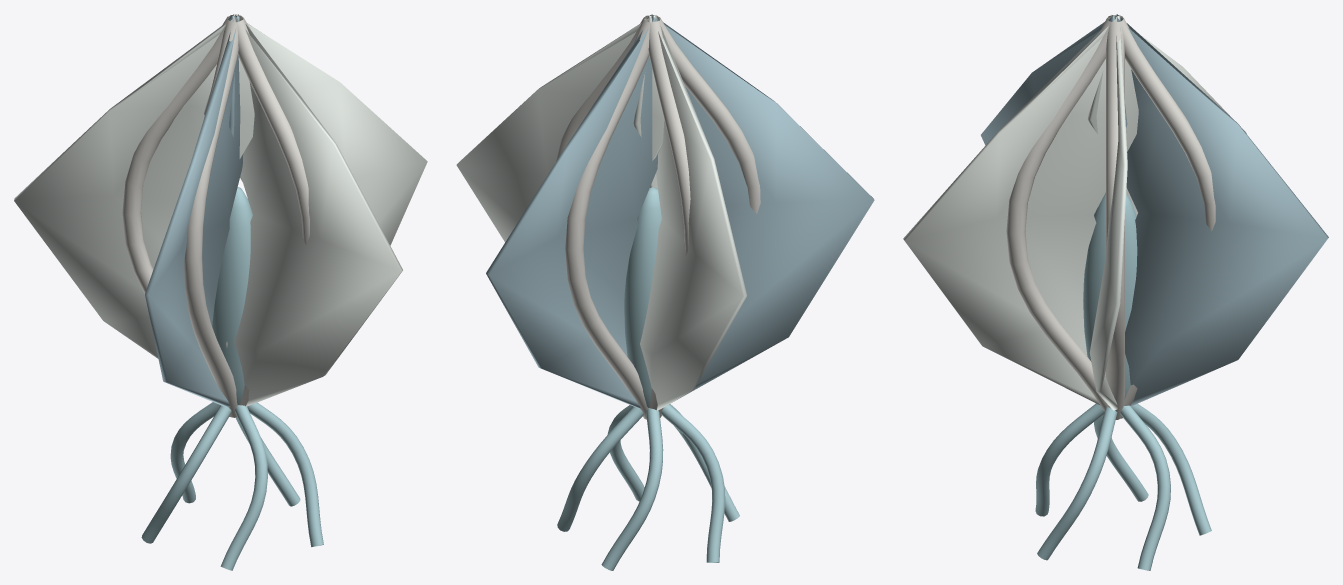
The model's file is bio_lantern_sail_08_near.glb.
3 views of the same model, side by side, from view 1: azimuth 30°, elevation 25°; view 2: azimuth 150°, elevation 25°; view 3: azimuth 270°, elevation 25° (orthographic).
Parts seen in each view (by area): view 1: Ribbed sensory membrane.004, Ribbed sensory membrane.002, Ribbed sensory membrane.003, Ribbed sensory membrane, Membrane leading seam.003, Membrane leading seam.002, Buoyancy spindle, Membrane leading seam.004, Trailing electroreceptor.003, Trailing electroreceptor.004, Trailing electroreceptor.002, Trailing electroreceptor.001 (+1 smaller); view 2: Ribbed sensory membrane.001, Ribbed sensory membrane.003, Ribbed sensory membrane.002, Ribbed sensory membrane, Membrane leading seam.001, Buoyancy spindle, Membrane leading seam.003, Membrane leading seam.002, Trailing electroreceptor.001, Trailing electroreceptor.002, Trailing electroreceptor, Membrane leading seam (+2 smaller); view 3: Ribbed sensory membrane.001, Ribbed sensory membrane.004, Membrane leading seam.004, Ribbed sensory membrane, Membrane leading seam, Membrane leading seam.001, Buoyancy spindle, Trailing electroreceptor, Ribbed sensory membrane.003, Trailing electroreceptor.004, Trailing electroreceptor.001, Trailing electroreceptor.003 (+2 smaller).
Boxes of the visible parts, <box> form: Ribbed sensory membrane.004: <box>234,14,402,406</box>; Ribbed sensory membrane.002: <box>14,16,254,358</box>; Ribbed sensory membrane.003: <box>145,16,243,407</box>; Ribbed sensory membrane: <box>203,14,427,347</box>; Membrane leading seam.003: <box>184,20,238,417</box>; Membrane leading seam.002: <box>122,16,229,293</box>; Buoyancy spindle: <box>212,187,252,404</box>; Membrane leading seam.004: <box>237,18,309,417</box>; Trailing electroreceptor.003: <box>220,405,267,570</box>; Trailing electroreceptor.004: <box>247,402,323,547</box>; Trailing electroreceptor.002: <box>141,405,231,543</box>; Trailing electroreceptor.001: <box>170,402,220,503</box>; Ribbed sensory membrane.001: <box>486,16,657,408</box>; Ribbed sensory membrane.003: <box>651,14,874,401</box>; Ribbed sensory membrane.002: <box>640,15,746,410</box>; Ribbed sensory membrane: <box>456,16,664,242</box>; Membrane leading seam.001: <box>565,19,650,419</box>; Buoyancy spindle: <box>624,187,661,407</box>; Membrane leading seam.003: <box>657,16,760,417</box>; Membrane leading seam.002: <box>648,21,690,416</box>; Trailing electroreceptor.001: <box>601,408,663,570</box>; Trailing electroreceptor.002: <box>661,404,725,562</box>; Trailing electroreceptor: <box>557,406,643,531</box>; Membrane leading seam: <box>554,15,646,163</box>; Ribbed sensory membrane.001: <box>1116,14,1328,406</box>; Ribbed sensory membrane.004: <box>903,16,1138,404</box>; Membrane leading seam.004: <box>1006,17,1110,411</box>; Ribbed sensory membrane: <box>1089,16,1127,410</box>; Membrane leading seam: <box>1106,22,1124,419</box>; Membrane leading seam.001: <box>1120,17,1215,418</box>; Buoyancy spindle: <box>1083,192,1137,400</box>; Trailing electroreceptor: <box>1120,405,1170,570</box>; Ribbed sensory membrane.003: <box>981,16,1127,215</box>; Trailing electroreceptor.004: <box>1037,406,1117,560</box>; Trailing electroreceptor.001: <box>1131,404,1211,535</box>; Trailing electroreceptor.003: <box>1035,403,1104,516</box>.
Size of the model in its own units: 2.14 by 3.02 by 2.24.
